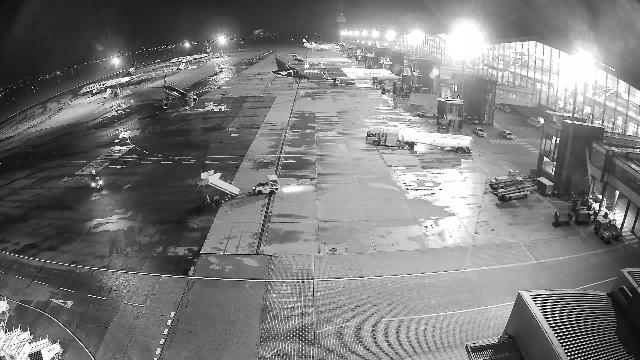Aircraft: (271, 52, 398, 86), (128, 70, 215, 110), (80, 61, 143, 94), (170, 46, 214, 63), (288, 53, 353, 64), (303, 39, 340, 49)
Airport_Tractor: (253, 174, 281, 195), (593, 218, 613, 242), (603, 216, 621, 240), (586, 194, 606, 211), (381, 86, 392, 92)
Baggage_Trolley: (536, 177, 554, 195), (554, 210, 573, 225), (572, 199, 588, 213), (575, 211, 592, 223), (593, 210, 609, 220)
Conveyor_Belt: (494, 176, 537, 201), (489, 169, 529, 190), (413, 106, 437, 118)
Fuel_Tuck: (366, 128, 473, 153)
Pushback_Tug: (205, 102, 226, 111)
